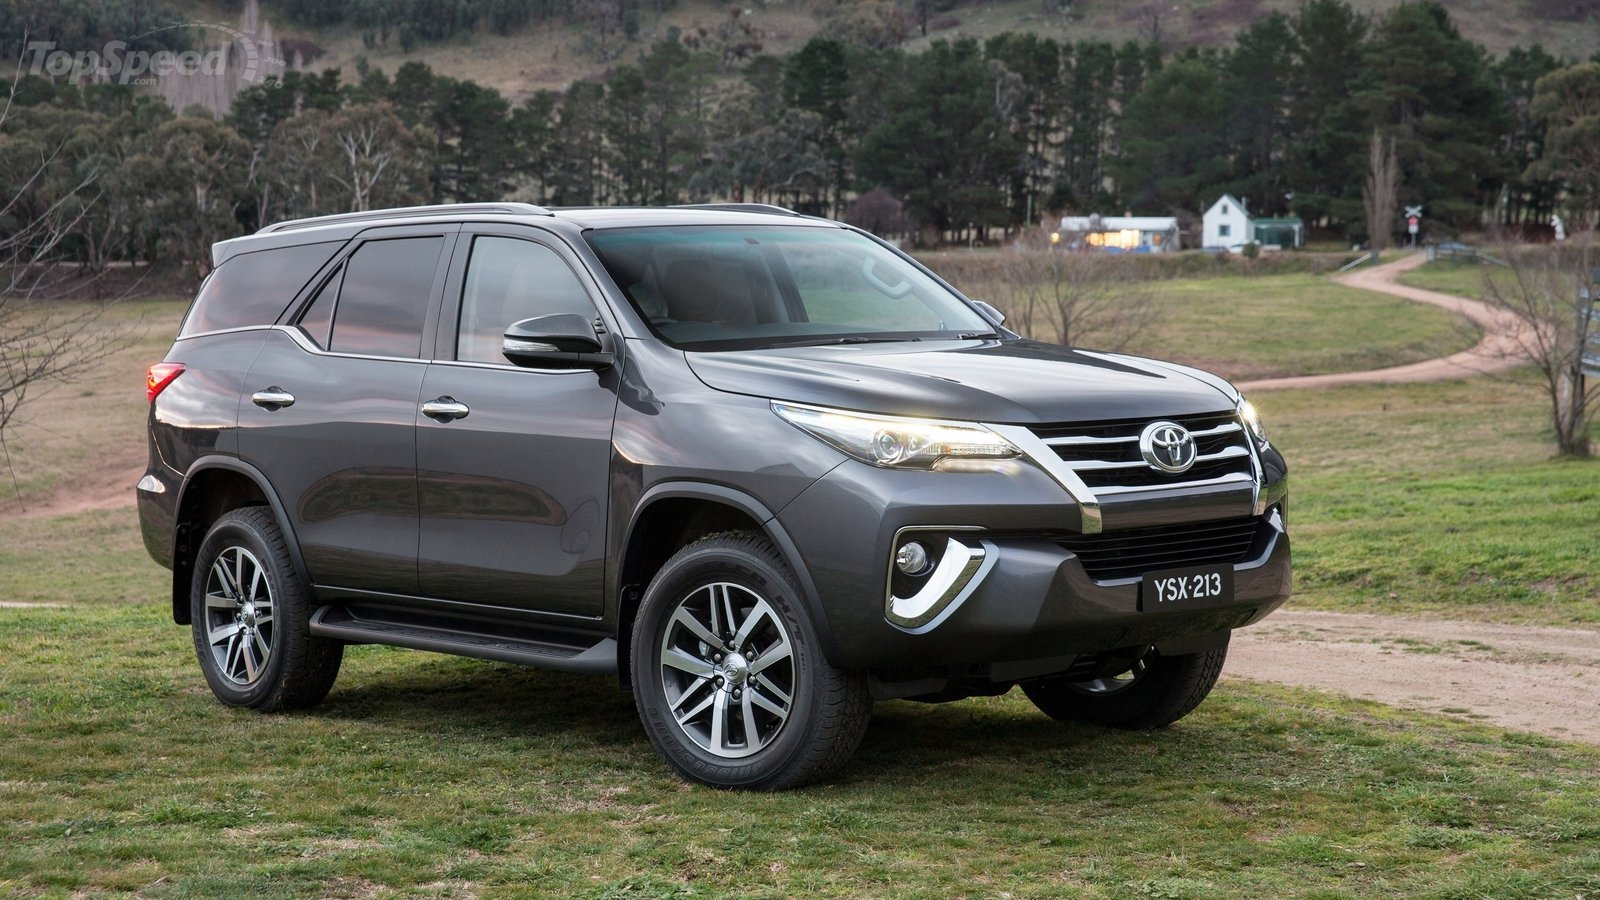Vehicle: (133, 200, 1298, 787)
